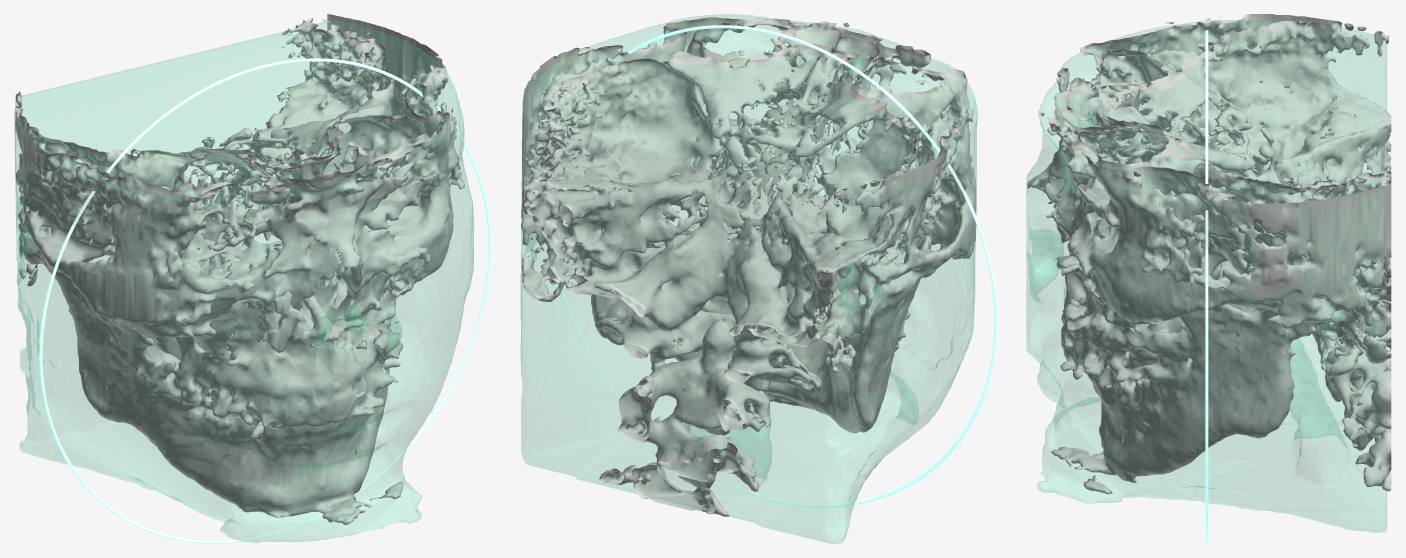
The model's file is cranio_layers-3zgFb1Op.glb.
3 views of the same model, side by side, from view 1: azimuth 30°, elevation 25°; view 2: azimuth 150°, elevation 25°; view 3: azimuth 270°, elevation 25° (orthographic).
Parts seen in each view (by area): view 1: CT_Soft_Tissue, CT_Bone, Scan_Orbit; view 2: CT_Soft_Tissue, CT_Bone, Scan_Orbit; view 3: CT_Soft_Tissue, CT_Bone, Scan_Orbit.
Boxes of the visible parts, x1,y1,x2,y2 form: CT_Soft_Tissue: (14,20,473,542); CT_Bone: (15,14,464,525); Scan_Orbit: (39,58,491,543); CT_Soft_Tissue: (520,14,977,543); CT_Bone: (521,17,976,516); Scan_Orbit: (561,25,997,507); CT_Soft_Tissue: (1026,20,1386,532); CT_Bone: (1027,14,1391,494); Scan_Orbit: (1205,30,1208,543).
Size of the model in its own units: 173 by 173 by 123.
